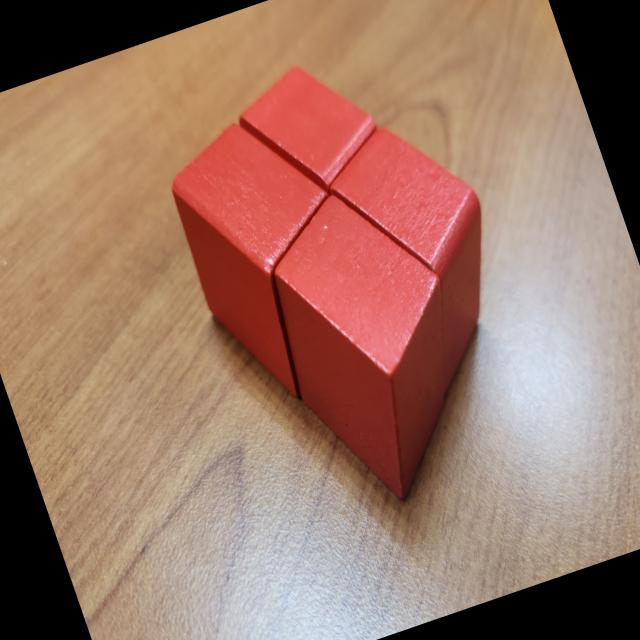red: (240, 168, 506, 523), (154, 99, 390, 415), (314, 104, 536, 410), (227, 44, 394, 216)
